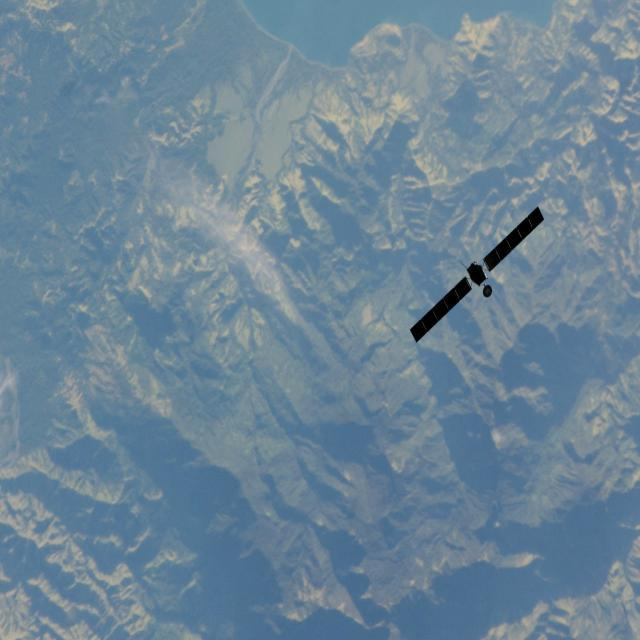satellite: (409, 200, 557, 346)
